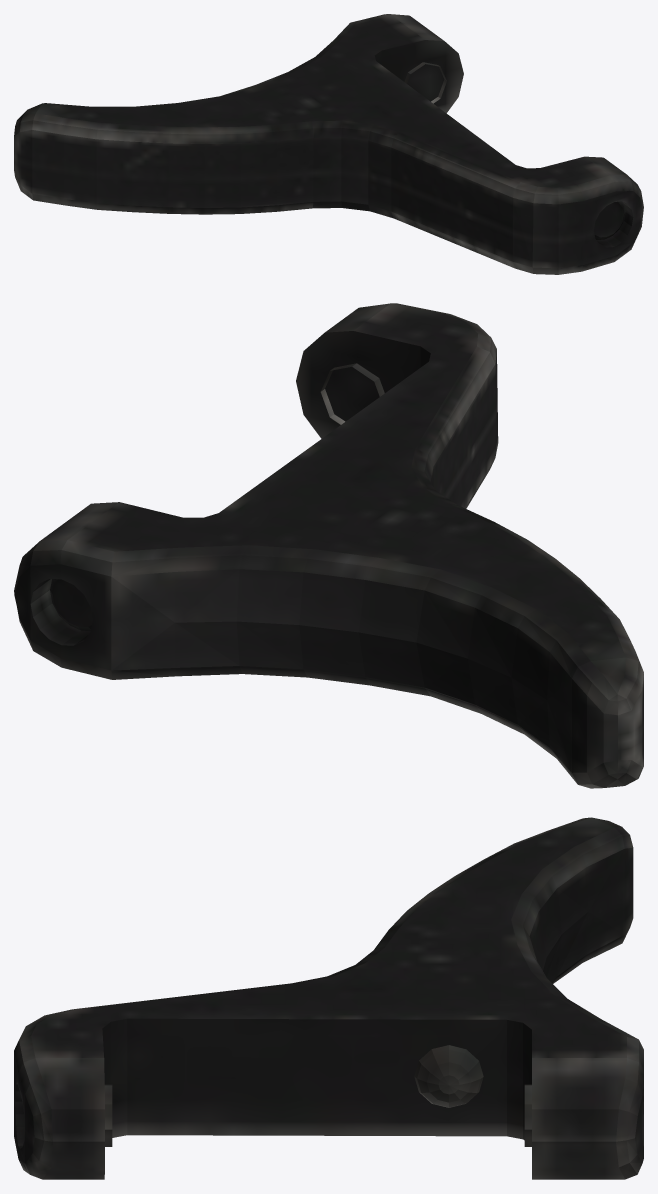
3 renders of one model, top to bottom at view 1: azimuth 30°, elevation 25°; view 2: azimuth 150°, elevation 25°; view 3: azimuth 270°, elevation 25°, orthographic. The views are drawn at different scales.
Visible parts, largest first — view 1: TW_645e0c6b3b381ede770e1cc9_PZ_Import; view 2: TW_645e0c6b3b381ede770e1cc9_PZ_Import; view 3: TW_645e0c6b3b381ede770e1cc9_PZ_Import.
Part boxes in pixels (x1=…): TW_645e0c6b3b381ede770e1cc9_PZ_Import: x1=14, y1=14, x2=643, y2=274; TW_645e0c6b3b381ede770e1cc9_PZ_Import: x1=14, y1=303, x2=643, y2=788; TW_645e0c6b3b381ede770e1cc9_PZ_Import: x1=14, y1=817, x2=643, y2=1179.
Bounding box in the file's own units: 0.0179 × 0.0174 × 0.00355.
Materials: 1 (1 with a texture image).
